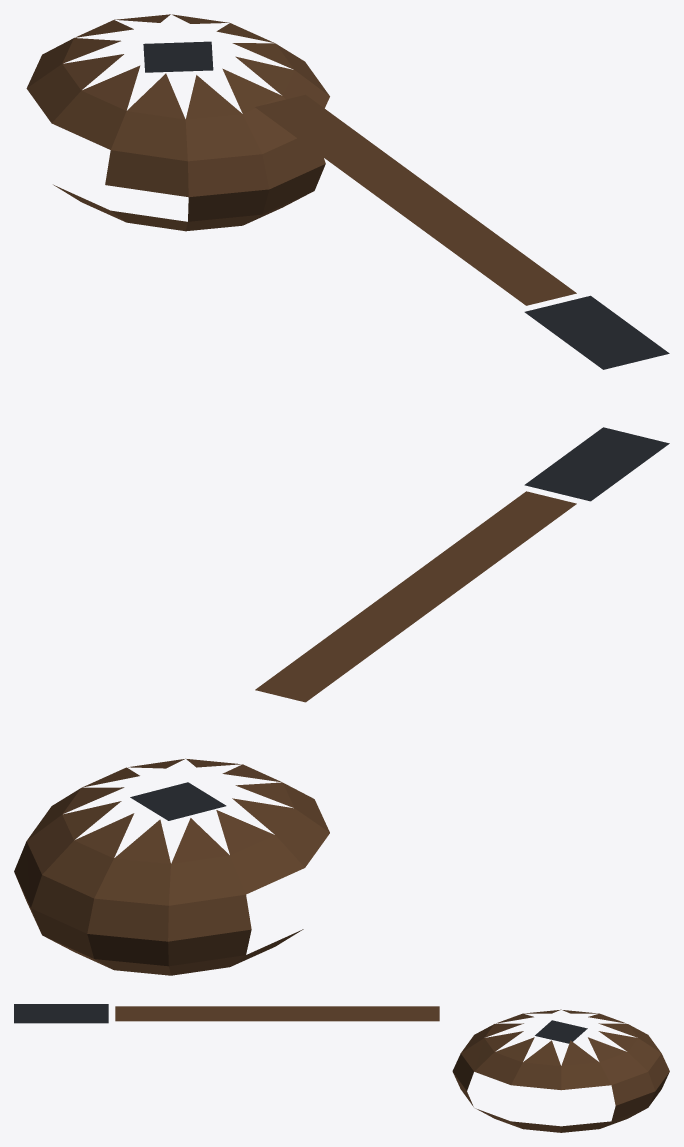
File: lute.lod.glb
3 renders of one model, top to bottom at view 1: azimuth 30°, elevation 25°; view 2: azimuth 150°, elevation 25°; view 3: azimuth 270°, elevation 25°, orthographic. The views are drawn at different scales.
Parts seen in each view (by area): view 1: m; view 2: m; view 3: m.
Boxes of the visible parts, x1,y1,x2,y2 form: m: (26, 14, 669, 369); m: (14, 427, 669, 975); m: (14, 1004, 669, 1132).
Size of the model in its own units: 0.1199 by 0.0772 by 0.45.
